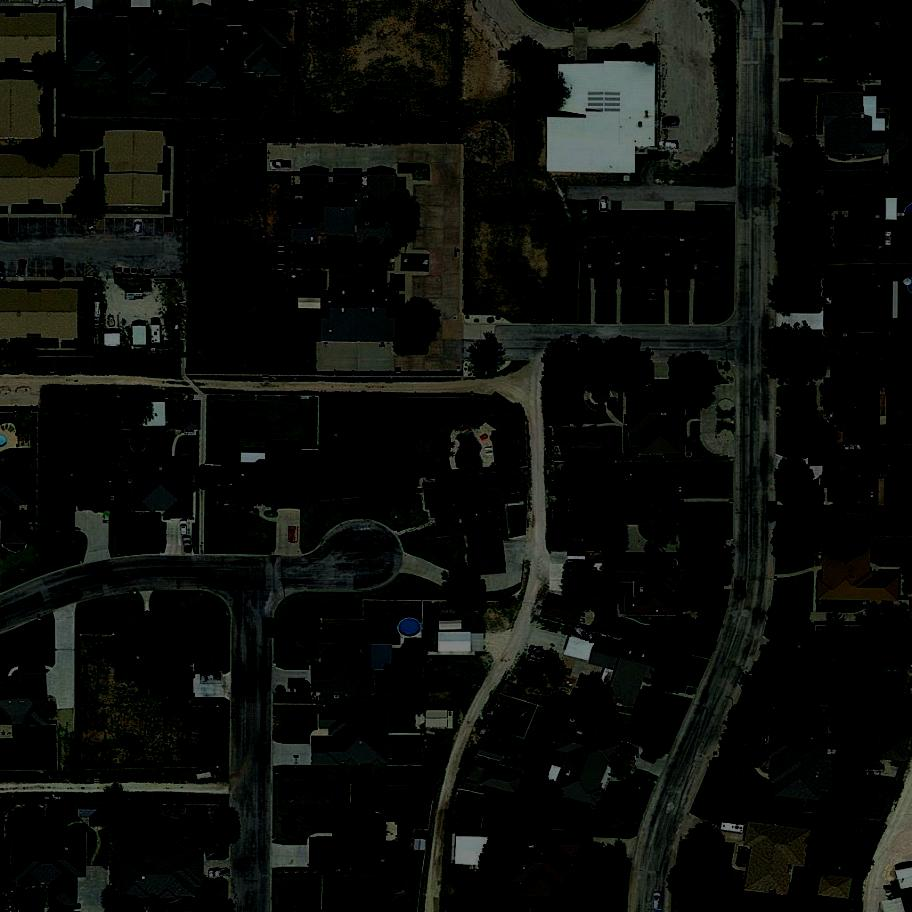ship: (572, 625, 596, 644)
small-vehicle: (201, 671, 224, 686), (209, 867, 231, 882), (620, 743, 639, 759), (262, 619, 276, 640), (662, 114, 681, 129), (658, 141, 678, 154), (16, 259, 29, 279), (734, 579, 747, 599), (53, 258, 65, 279), (618, 754, 637, 767), (652, 151, 670, 164), (181, 535, 193, 554), (588, 199, 601, 216), (766, 502, 777, 521), (287, 678, 306, 688), (134, 219, 145, 236), (808, 456, 825, 467), (289, 527, 300, 543), (87, 218, 97, 234), (600, 199, 610, 215), (498, 51, 515, 60), (270, 160, 289, 168), (529, 647, 544, 657), (164, 217, 173, 233), (865, 763, 883, 771), (180, 519, 188, 535), (655, 891, 662, 909)
